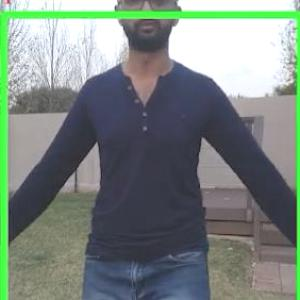land: (5, 0, 299, 299)
